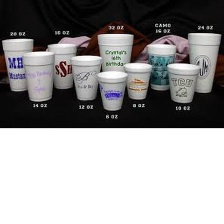paper_cup: (185, 29, 222, 96), (19, 48, 57, 103), (0, 36, 36, 94), (95, 30, 135, 80), (67, 52, 104, 102), (163, 59, 203, 105), (144, 40, 179, 92), (45, 40, 79, 91), (94, 68, 131, 113), (121, 59, 155, 103)
